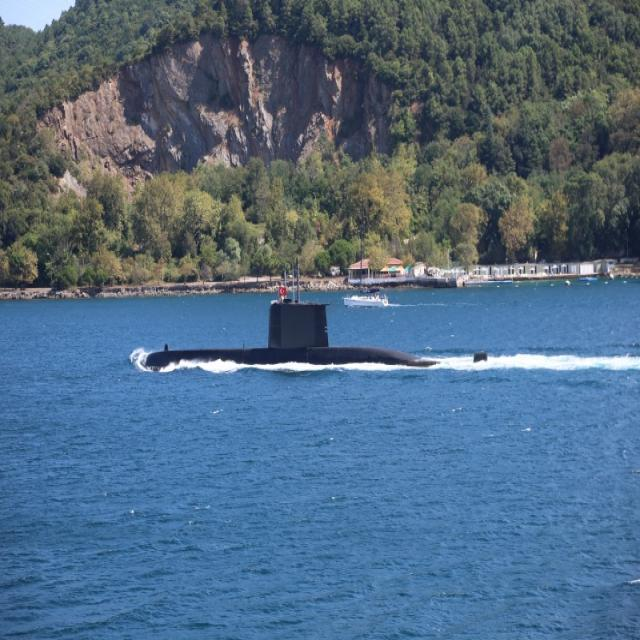submarine: (145, 262, 488, 372)
